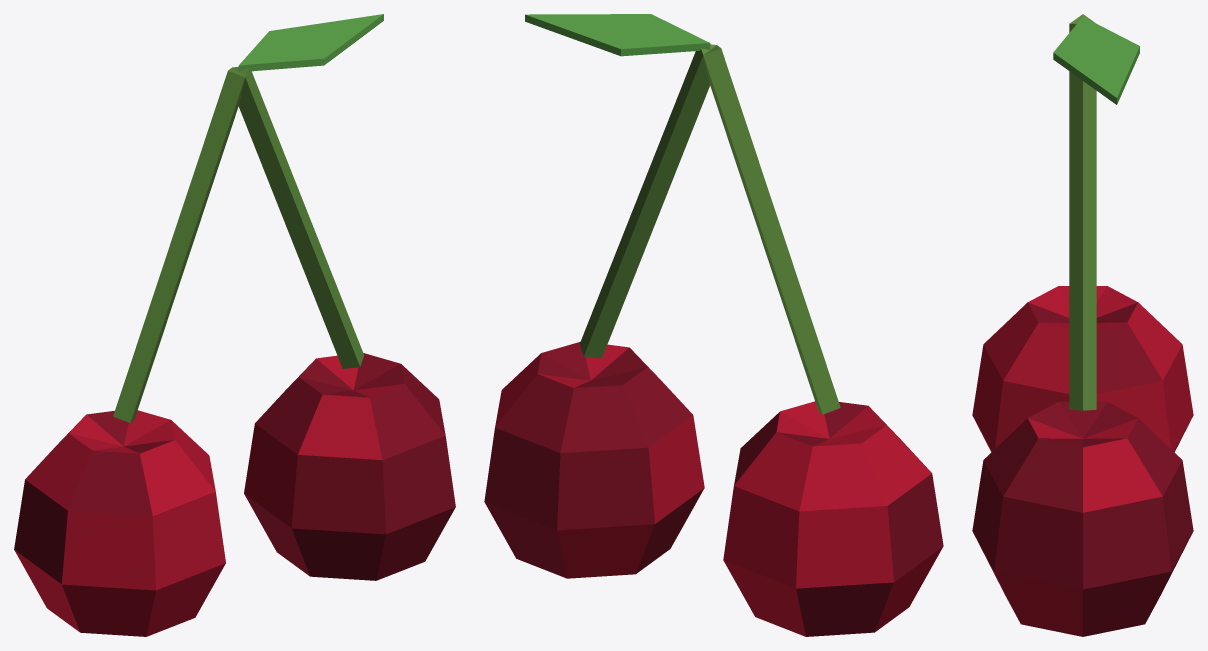
File: cherry.glb
3 renders of one model, left to right at view 1: azimuth 30°, elevation 25°; view 2: azimuth 150°, elevation 25°; view 3: azimuth 270°, elevation 25°, orthographic. The views are drawn at different scales.
Parts seen in each view (by area): view 1: cherry; view 2: cherry; view 3: cherry.
Boxes of the visible parts, x1,y1,x2,y2 form: cherry: (14, 14, 455, 636); cherry: (484, 14, 943, 636); cherry: (972, 14, 1193, 636).
Size of the model in its own units: 0.2503 by 0.304 by 0.1131.
Materials: 1 (1 with a texture image).
